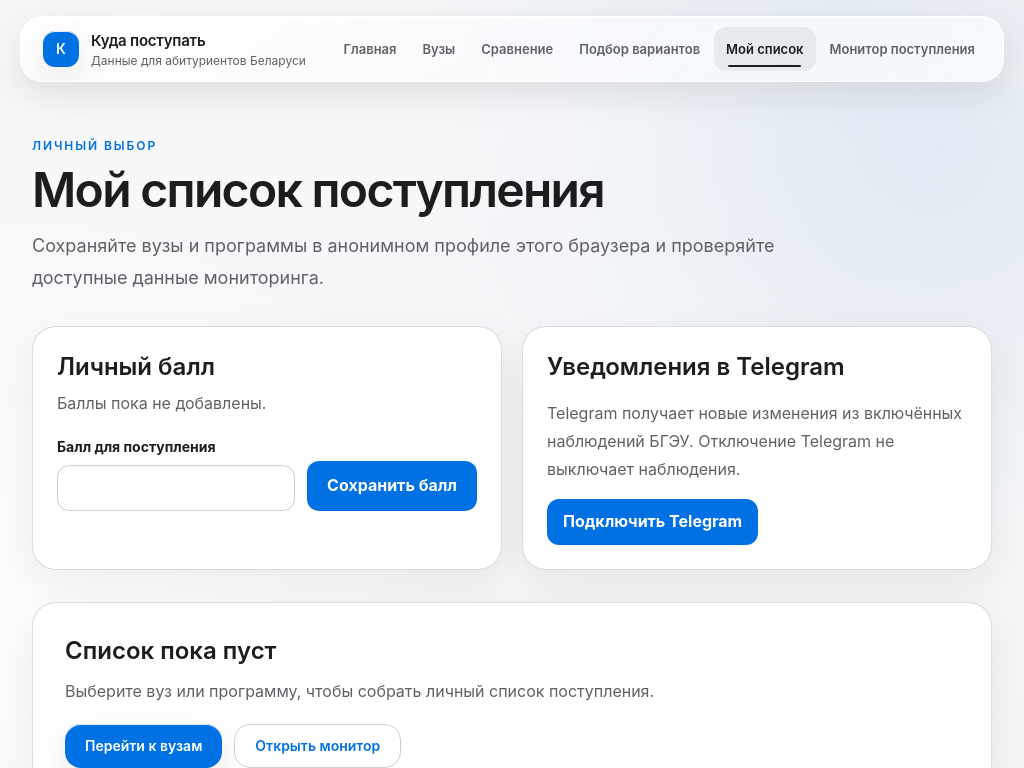
/my-list behavior and truthful monitoring › renders the empty state and validates score before creating a profile
Expected: the heading "Мой список поступления" is shown, x1=32 y1=160 x2=604 y2=219
Expected: the heading "Список пока пуст" is shown, x1=65 y1=636 x2=276 y2=665
Type "501" into the number field labelled "Балл для поступления" at (176, 488), box x1=57 y1=465 x2=295 y2=511
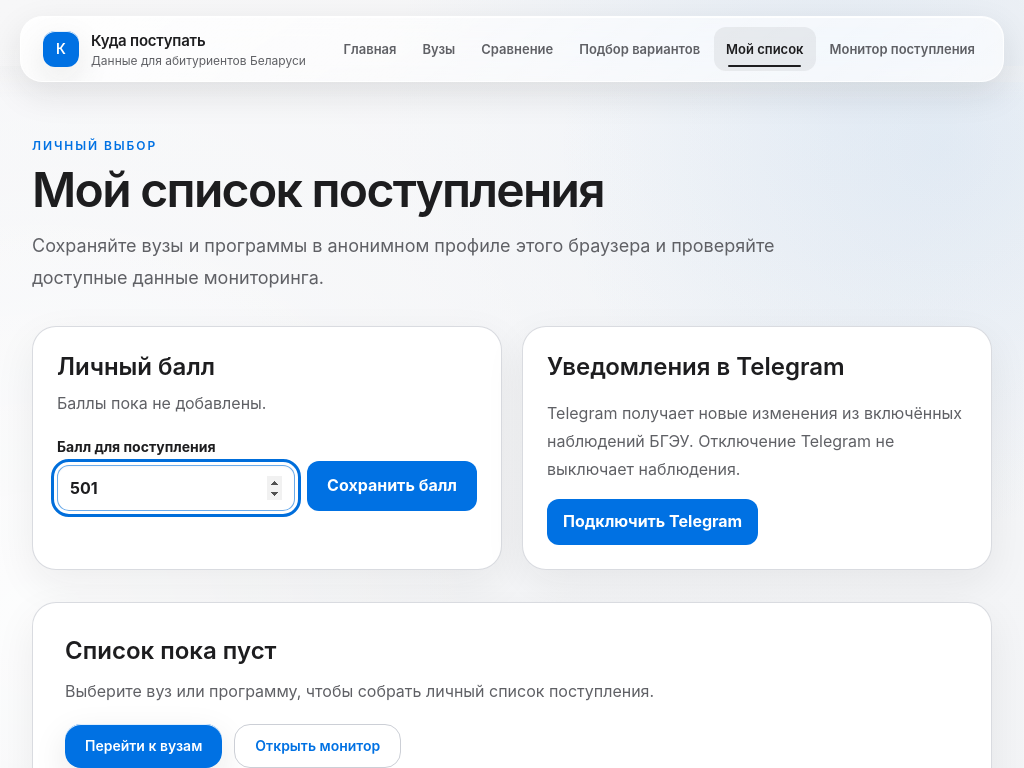
Click the button "Сохранить балл" at (392, 486), box x1=307 y1=461 x2=477 y2=511
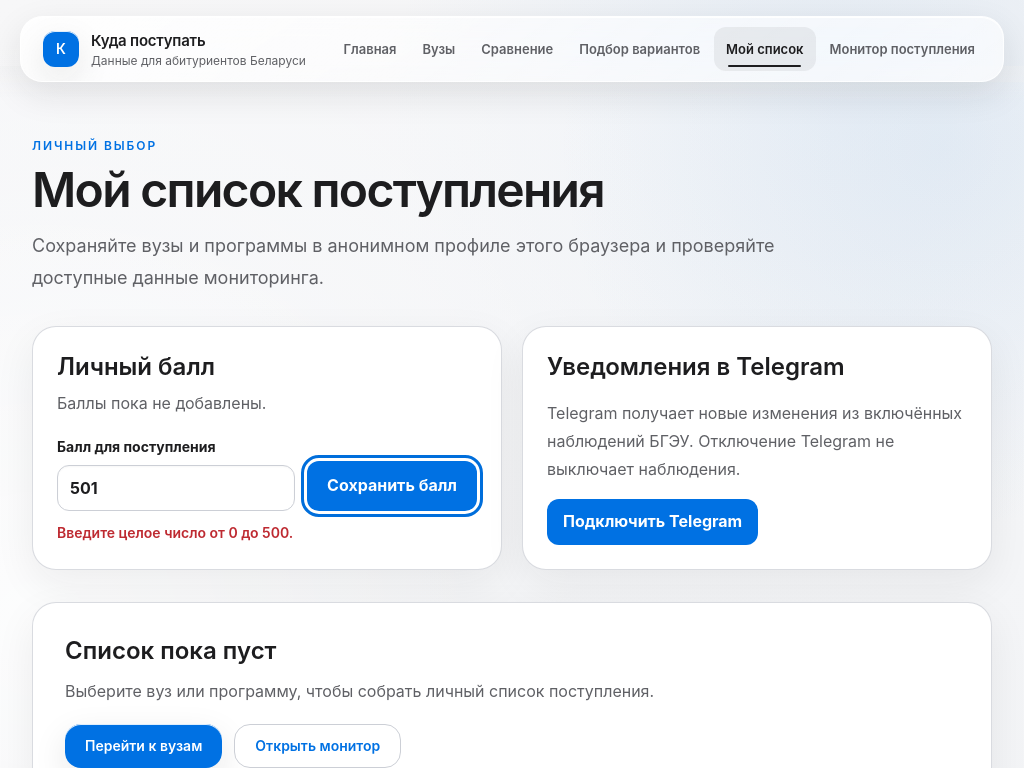
Result: the message reads "Введите целое число от 0 до 500." at x1=57 y1=524 x2=293 y2=541
